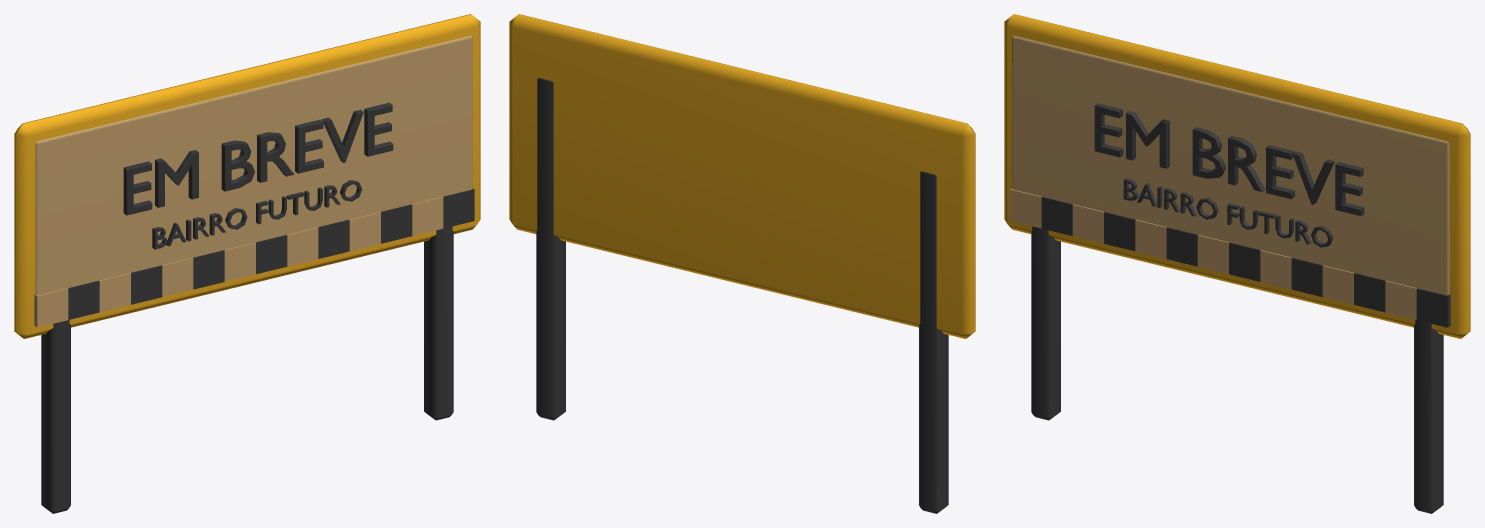
Rendered from soon_sign.glb.
3 renders of one model, left to right at view 1: azimuth 30°, elevation 25°; view 2: azimuth 150°, elevation 25°; view 3: azimuth 330°, elevation 25°, orthographic.
Parts seen in each view (by area): view 1: soon_sign; view 2: soon_sign; view 3: soon_sign.
Part boxes in pixels (<box>): soon_sign: <box>14,14,480,513</box>; soon_sign: <box>509,14,975,513</box>; soon_sign: <box>1004,14,1470,513</box>.
Size of the model in its own units: 3.4 by 2.75 by 0.223.
